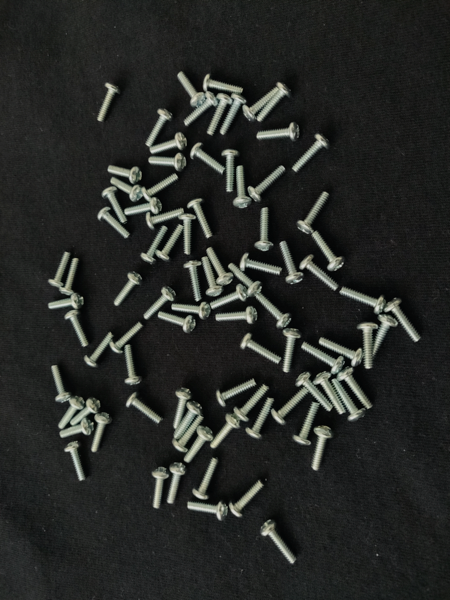shortscrew: (384, 298, 423, 343), (292, 133, 332, 173), (296, 372, 334, 414), (261, 520, 296, 565), (337, 368, 374, 410), (333, 378, 367, 423), (256, 83, 293, 124), (297, 192, 332, 235), (271, 387, 309, 426), (300, 254, 339, 292), (248, 165, 287, 203), (302, 341, 345, 375), (255, 292, 293, 330), (242, 86, 281, 123), (230, 480, 267, 518), (234, 384, 270, 423), (315, 373, 347, 416), (311, 232, 345, 272), (240, 333, 282, 365), (341, 287, 387, 316), (126, 392, 165, 426), (245, 397, 275, 441), (319, 338, 364, 367), (371, 315, 398, 363), (193, 457, 222, 501), (206, 93, 234, 138), (183, 91, 219, 126), (217, 378, 258, 408), (228, 263, 263, 298), (172, 414, 203, 453), (145, 108, 175, 148), (293, 402, 320, 446), (144, 286, 177, 322), (97, 207, 133, 240), (113, 271, 145, 308), (174, 401, 203, 441), (211, 413, 242, 450), (221, 92, 247, 136), (184, 426, 214, 464), (84, 331, 114, 369), (140, 225, 168, 265), (190, 143, 226, 174), (311, 426, 335, 472), (187, 198, 213, 240), (206, 247, 234, 286), (110, 323, 145, 354), (280, 241, 305, 284), (177, 71, 206, 108), (357, 322, 379, 370), (156, 224, 183, 263), (63, 441, 88, 483), (240, 253, 283, 277), (101, 187, 128, 225), (210, 284, 251, 309), (90, 412, 113, 454), (158, 310, 198, 334), (97, 83, 121, 123), (70, 398, 103, 427), (64, 311, 89, 348), (188, 499, 228, 522), (202, 257, 225, 297), (58, 396, 85, 430), (59, 257, 81, 298), (146, 207, 185, 230), (110, 177, 144, 203), (167, 462, 187, 506), (49, 250, 72, 288), (255, 207, 274, 253), (184, 260, 204, 303), (51, 365, 73, 404), (150, 132, 189, 154), (283, 328, 302, 373), (203, 74, 243, 95), (152, 467, 171, 510), (173, 387, 192, 430), (233, 165, 252, 208), (222, 149, 241, 192), (123, 345, 143, 385), (216, 306, 258, 325), (171, 302, 211, 321), (59, 418, 95, 439), (179, 212, 196, 255), (124, 197, 164, 215), (108, 165, 144, 185), (149, 155, 188, 173), (49, 293, 84, 310)
